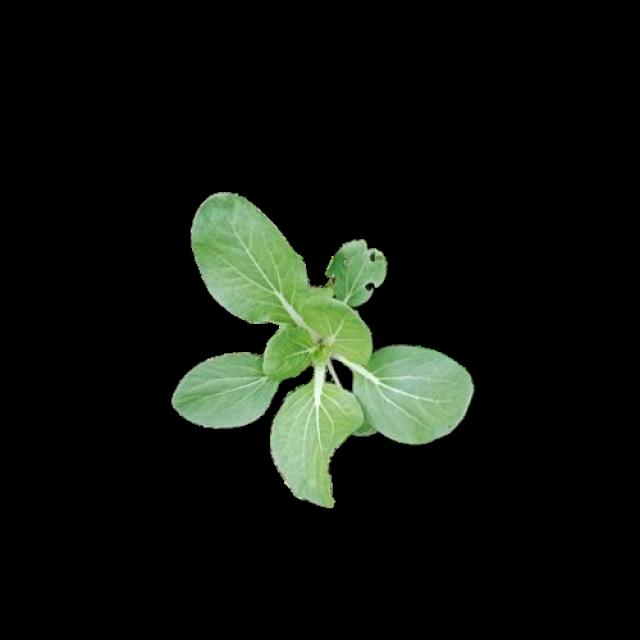not-mature: (168, 193, 475, 507)
unhealthy: (329, 240, 385, 310)
